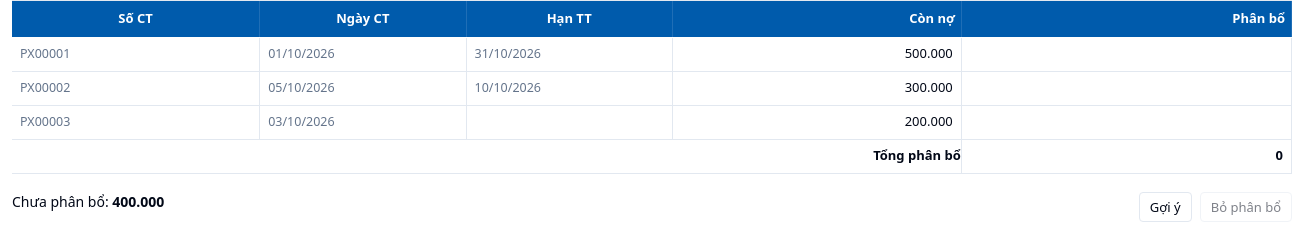
Test: AllocationGrid › suggest fills earliest due first
Click the button "Gợi ý" at (1165, 206), box [1139,192,1192,222]
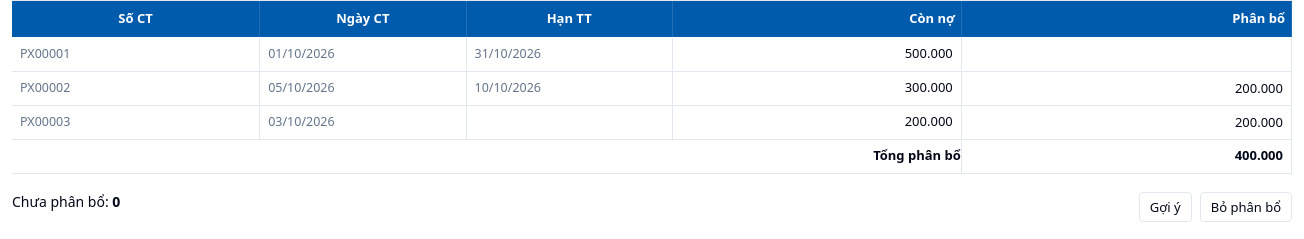
Result: the text with test id "allocation-total" reads "400.000" at [1235,146,1283,164]
Result: the text with test id "allocation-remaining" reads "0" at [112,192,120,210]
Click the button "Bỏ phân bổ" at (1246, 206), box [1200,192,1292,222]
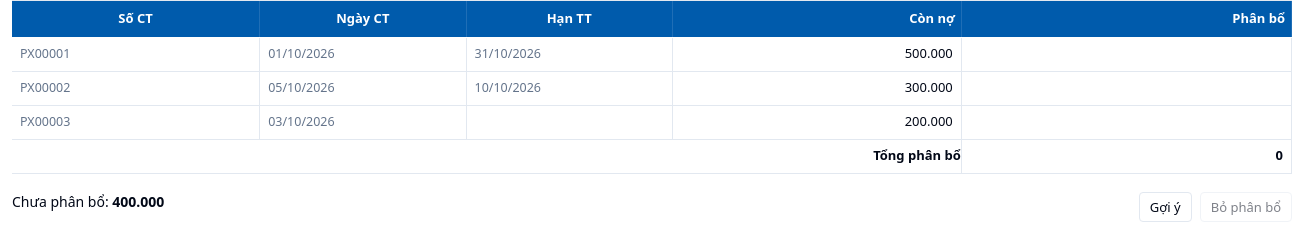
Result: the text with test id "allocation-remaining" reads "400.000" at [112,192,164,210]
